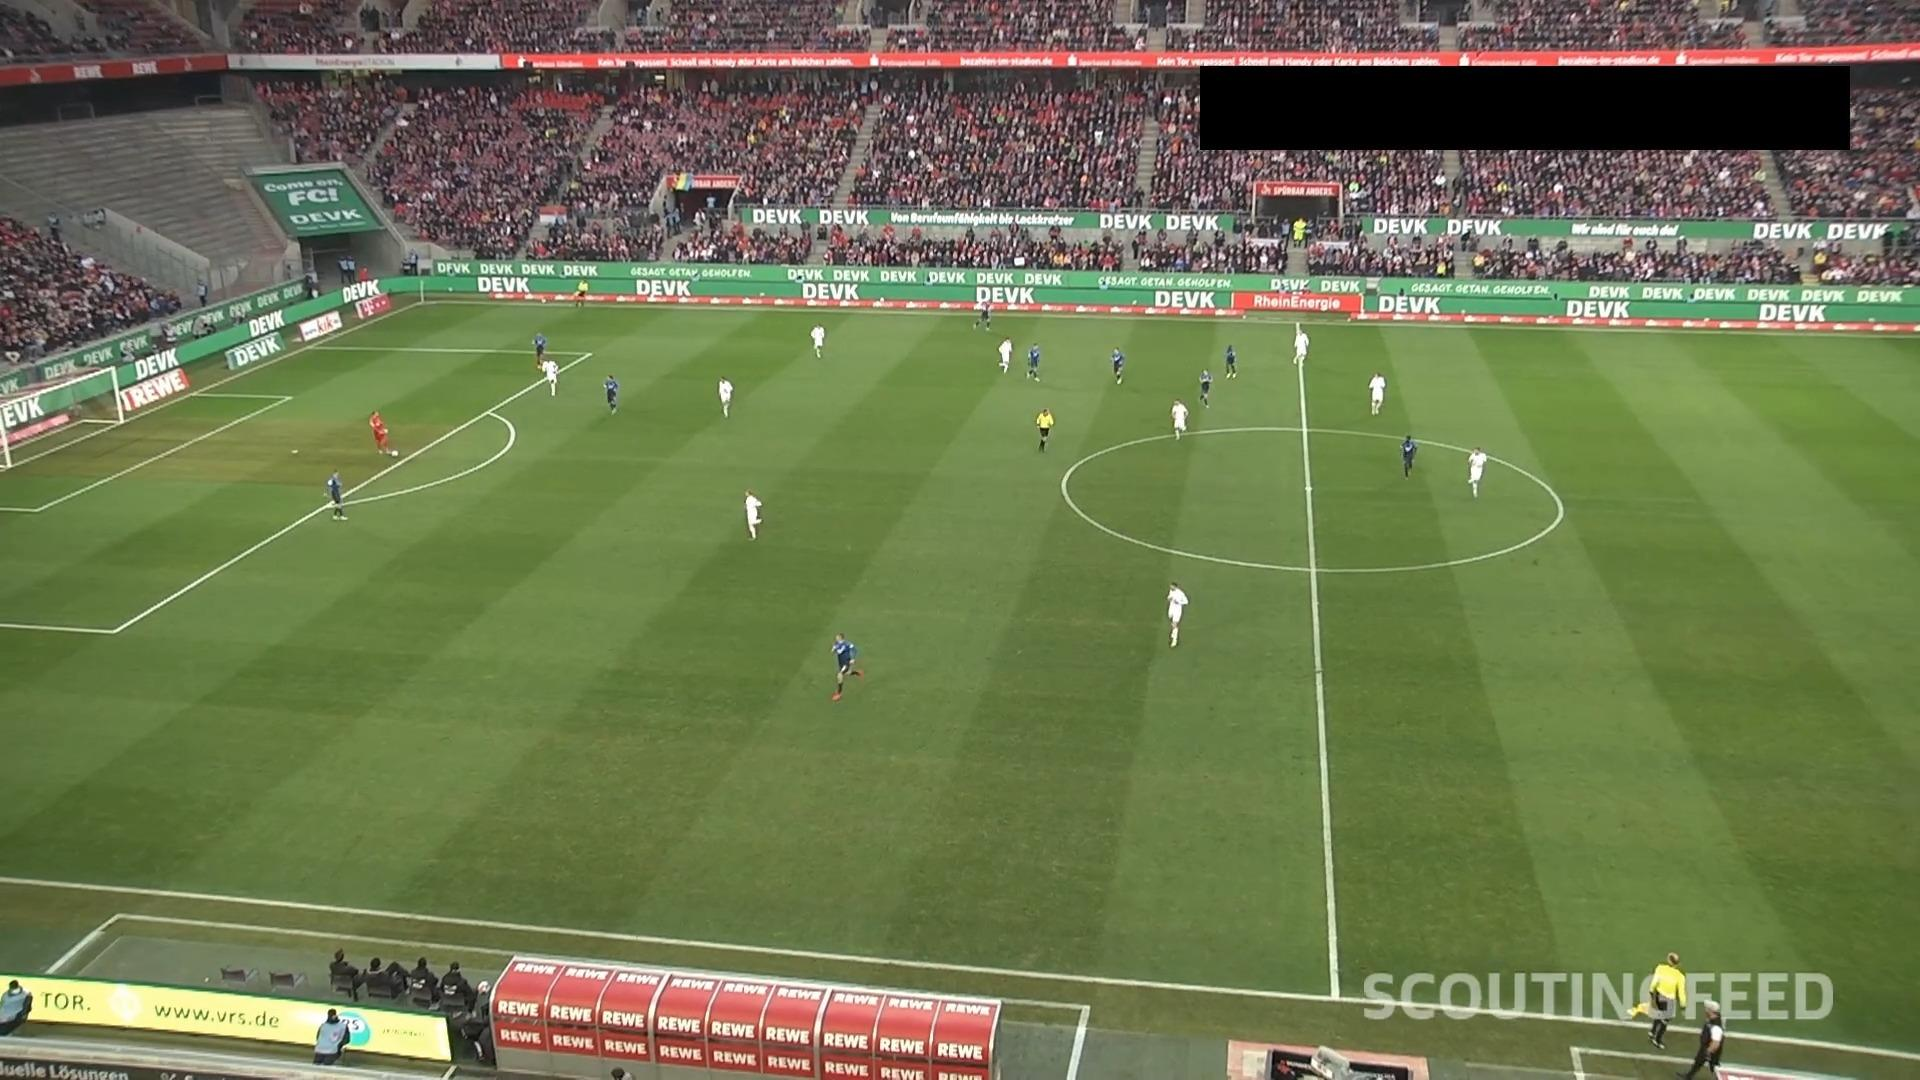ball: (390, 450, 400, 459)
